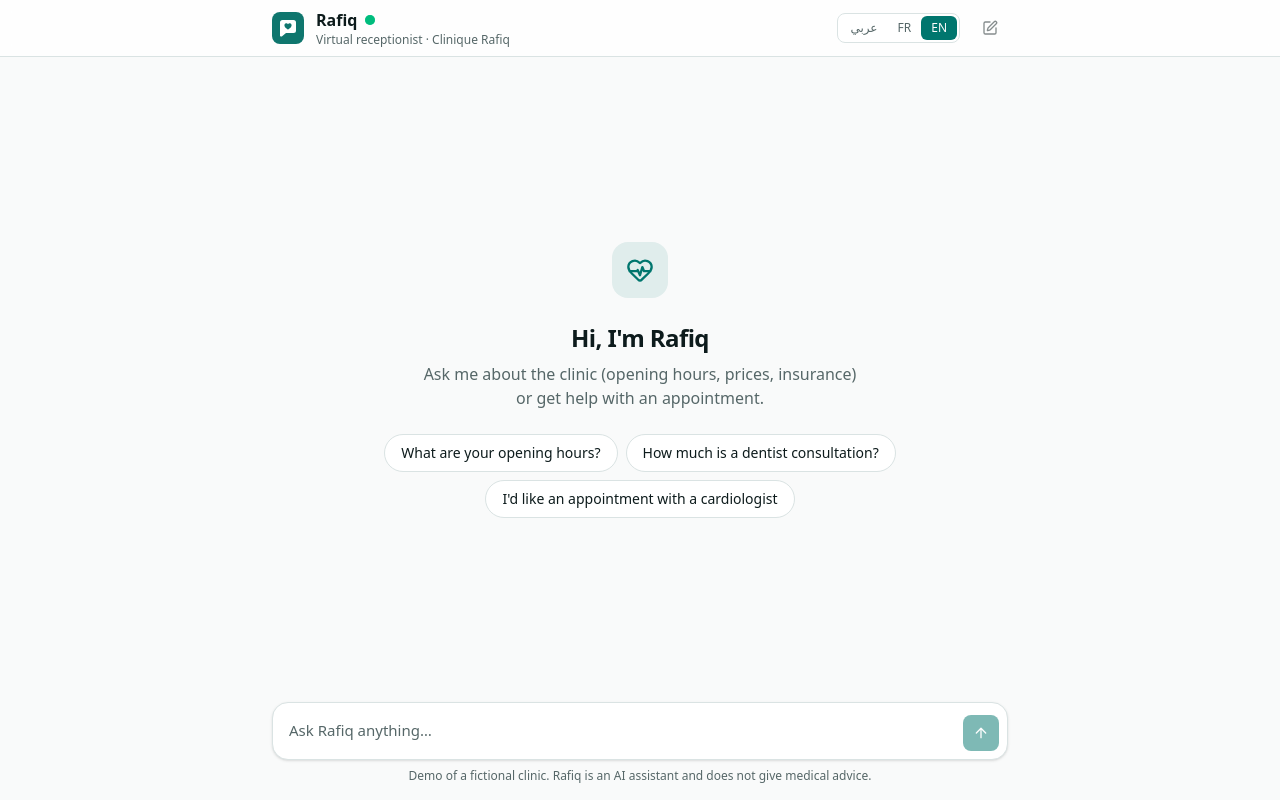
Test: App › switches to Arabic with a right-to-left layout
The width and height of the screenshot is (1280, 800).
Click the button "عربي" at (864, 28), box [840, 16, 888, 40]
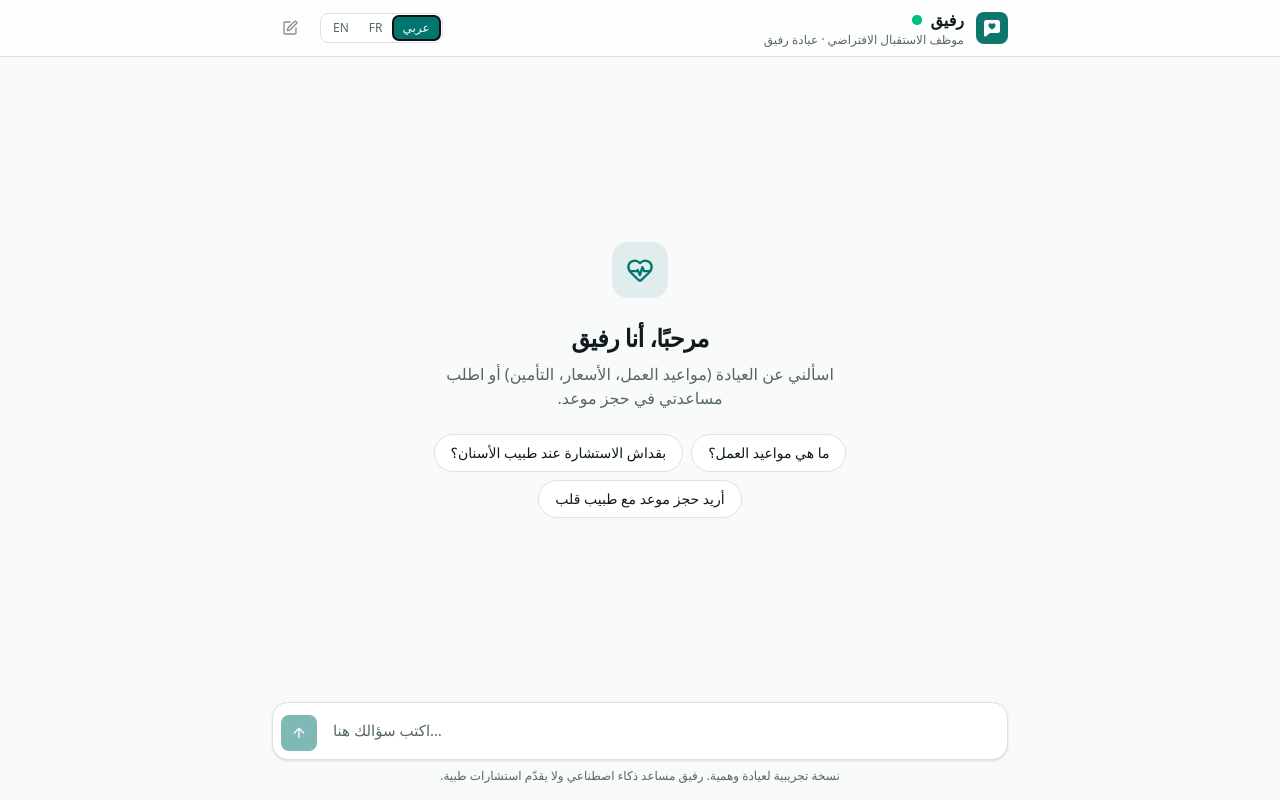
Result: the heading "مرحبًا، أنا رفيق" is shown at [571, 320, 709, 354]
